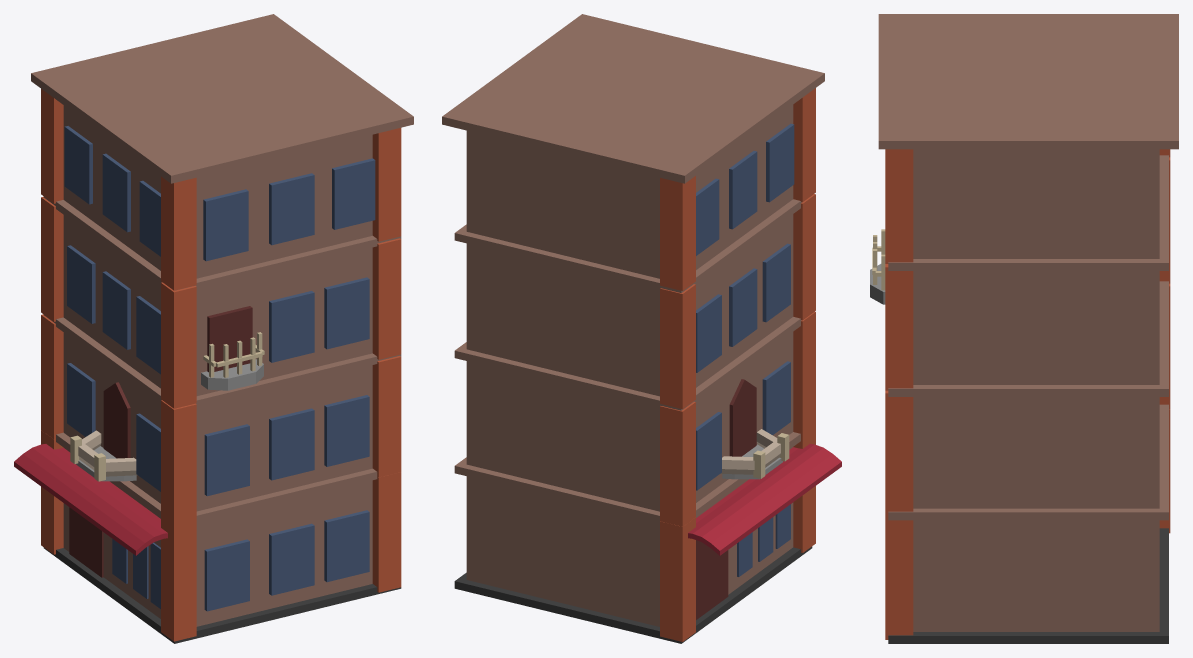
Rendered from block2.fbx.
The picture shows the model from 3 angles, left to right: view 1: azimuth 30°, elevation 25°; view 2: azimuth 150°, elevation 25°; view 3: azimuth 270°, elevation 25°; orthographic projection. The views are drawn at different scales.
Parts seen in each view (by area): view 1: Block2.002, Block2, Block2.001, Block1, Ground; view 2: Block2.002, Block2, Block2.001, Block1, Ground; view 3: Block2.002, Block2.001, Block1, Block2, Ground.
Boxes of the visible parts, x1,y1,x2,y2 form: Block2.002: (31,14,413,290); Block2: (41,314,401,526); Block2.001: (41,196,401,408); Block1: (14,430,401,641); Ground: (43,547,401,643); Block2.002: (442,14,824,290); Block2: (454,311,815,526); Block2.001: (454,194,815,409); Block1: (454,427,841,641); Ground: (454,546,812,643); Block2.002: (878,14,1178,263); Block2.001: (870,155,1170,390); Block1: (885,404,1170,639); Block2: (885,281,1170,516); Ground: (888,528,1168,643).
Bounding box in the file's own units: 254 × 427 × 236.
